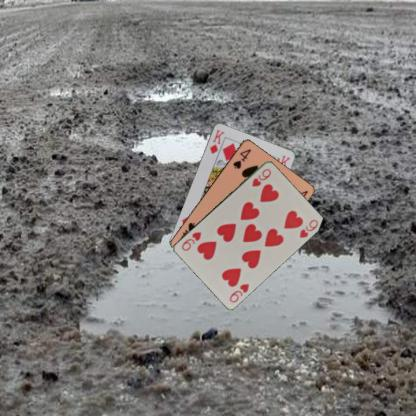4s: (230, 146, 252, 170)
9h: (249, 166, 272, 188), (227, 281, 250, 303)
Kd: (207, 126, 226, 155)
